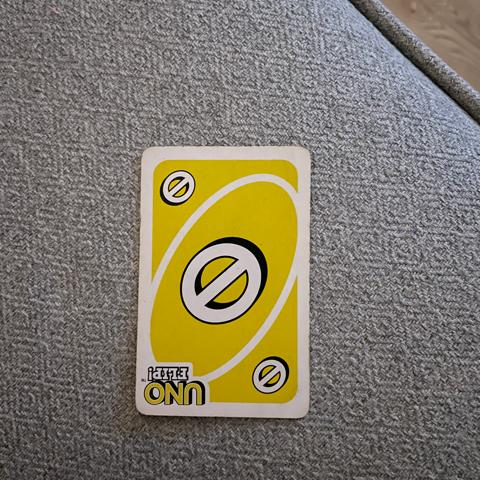lyellowskip-20: (149, 155, 206, 217)
